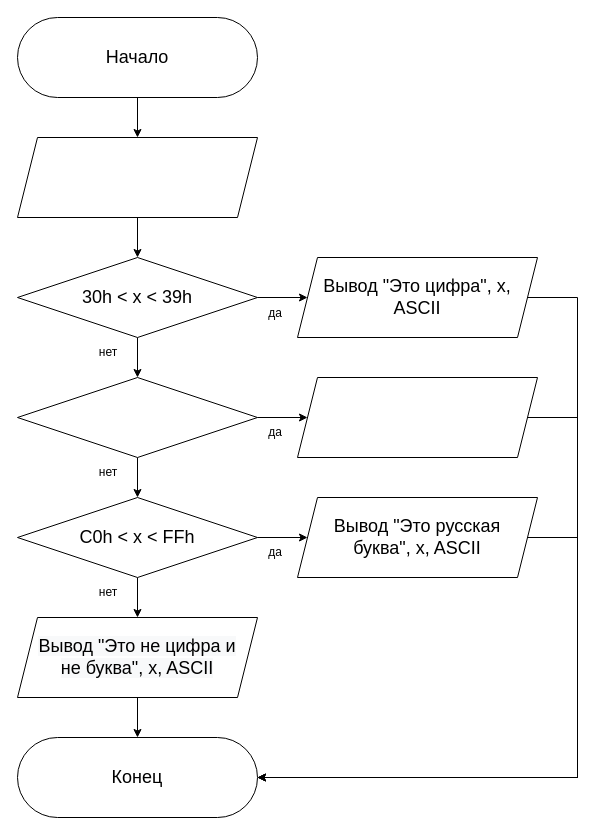
Image size: 603x835. Some labels were removed from this diagram. Here are the shapes that lost their labels. From the top down, the centre of each, then its label:
[137,177]: Ввод x
[137,417]: 49h < x < 7Ah
[417,417]: Вывод "Это латинская буква", x, ASCII
